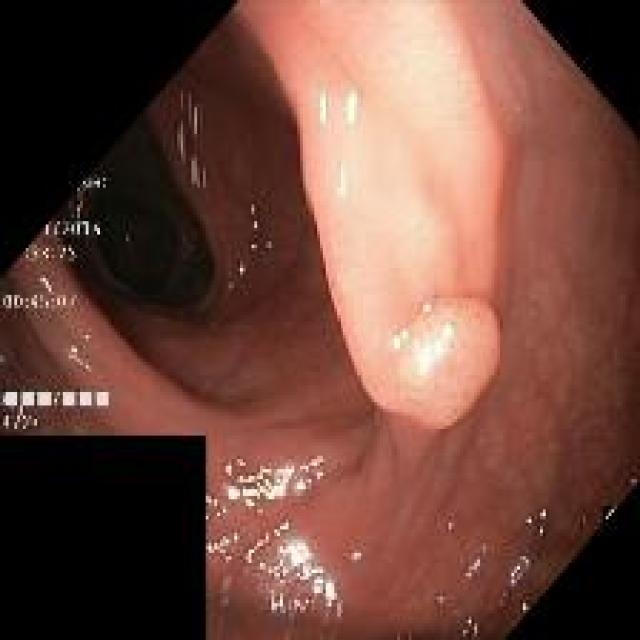Polyps: (390, 299, 500, 430)
